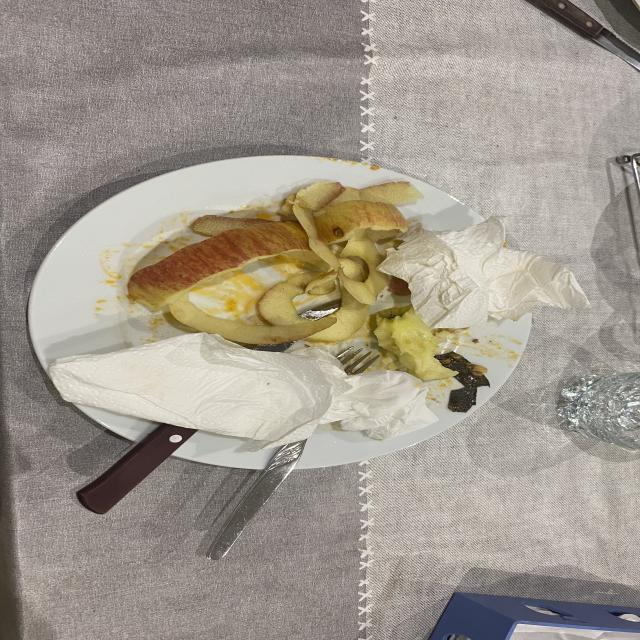fork: (207, 440, 306, 560)
garbage: (46, 181, 589, 451), (434, 351, 490, 412)
knife: (77, 423, 197, 514)
plate: (28, 156, 589, 469)
water cup: (557, 372, 640, 450)
